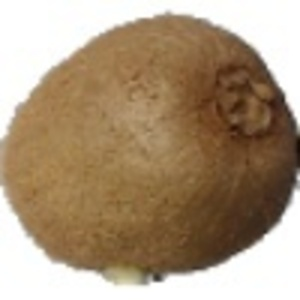kiwi: (1, 12, 300, 289)
